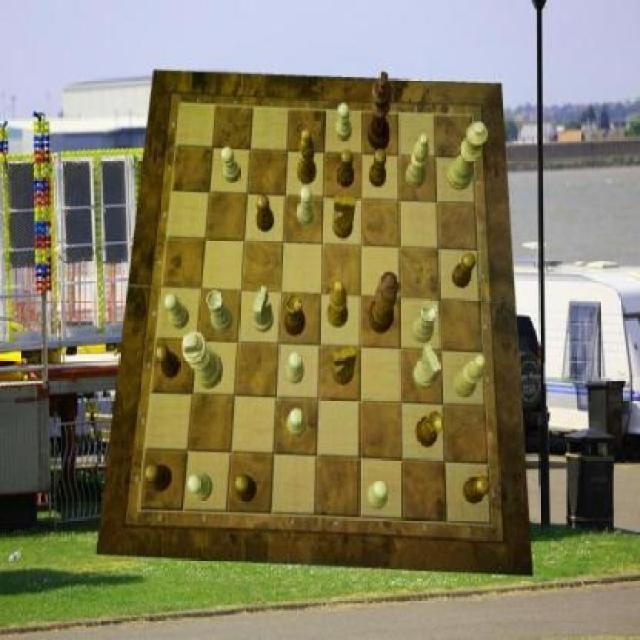bishop: (297, 130, 317, 186), (326, 280, 349, 328)
black-bishop: (368, 72, 392, 152)
black-king: (334, 196, 357, 240), (332, 346, 357, 386)
black-knight: (454, 252, 477, 288), (157, 345, 181, 379), (464, 477, 492, 505), (146, 465, 174, 492), (337, 149, 355, 188), (369, 149, 387, 188), (255, 196, 273, 232), (234, 474, 257, 501)
black-pawn: (368, 272, 400, 334)
black-queen: (417, 409, 445, 447), (284, 294, 306, 336)
black-rook: (452, 355, 486, 398), (406, 132, 429, 187)
white-bishop: (182, 331, 222, 388)
white-king: (414, 345, 441, 390), (252, 286, 275, 332)
white-knight: (165, 294, 189, 330), (222, 146, 242, 182), (189, 474, 214, 501), (297, 188, 314, 226), (336, 103, 352, 142), (368, 480, 388, 511), (286, 350, 304, 384), (286, 409, 306, 437)
white-pawn: (448, 123, 488, 191)
white-queen: (208, 291, 234, 333), (412, 303, 438, 345)
